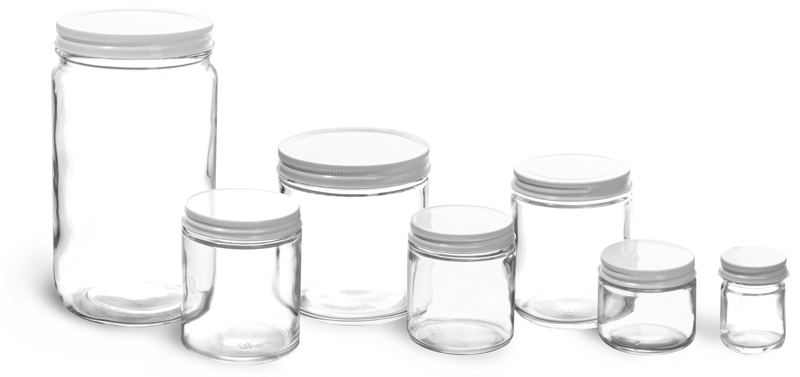glass_bottle: (49, 4, 217, 330), (717, 246, 791, 356)
